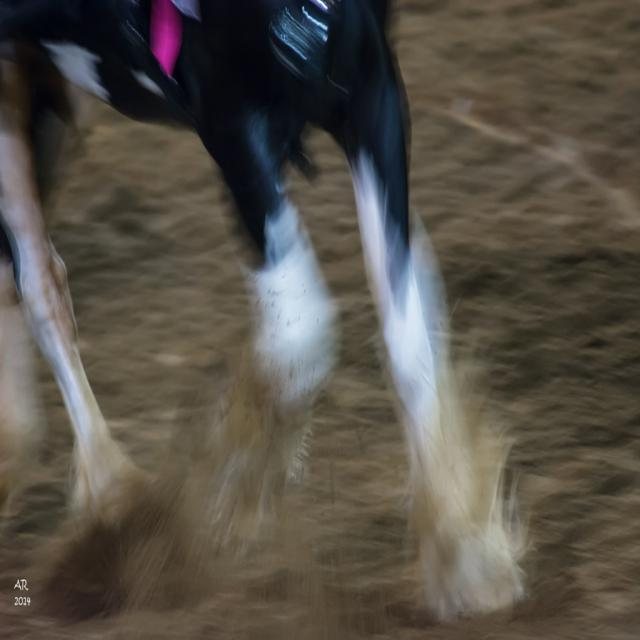Horse: (0, 0, 528, 625)
